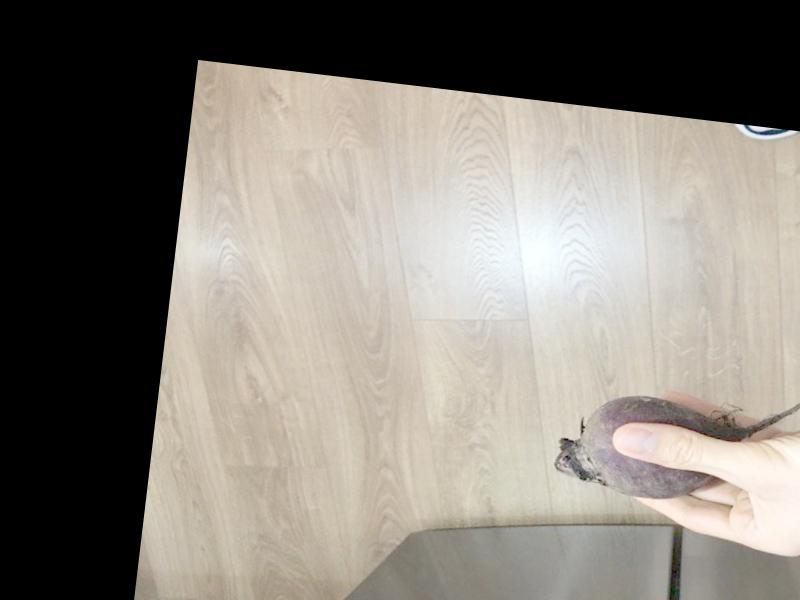Beet: (549, 355, 800, 516)
